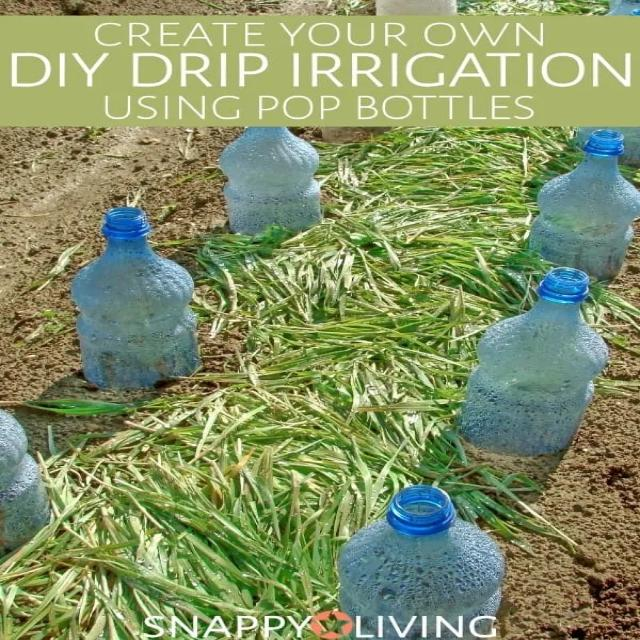plastic_bottle: (527, 129, 639, 284)
